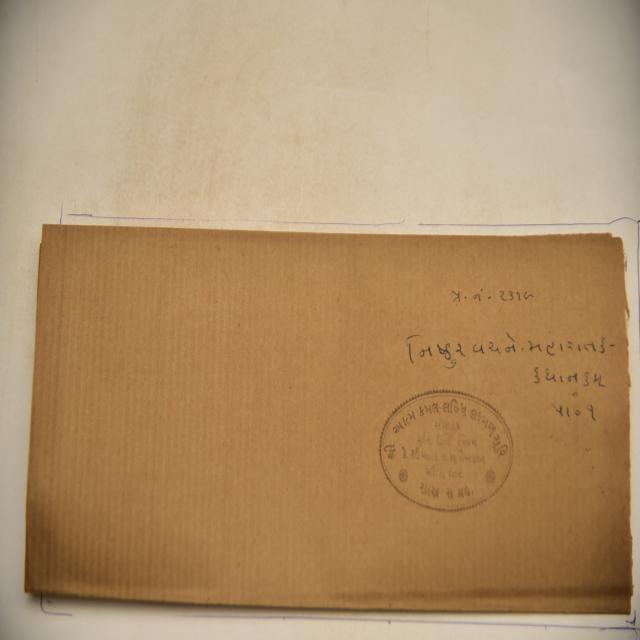text_paragraph: (24, 220, 634, 611)
